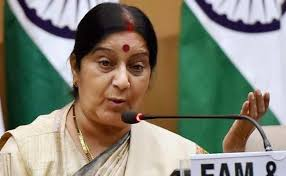indian_female: (49, 1, 157, 144)
